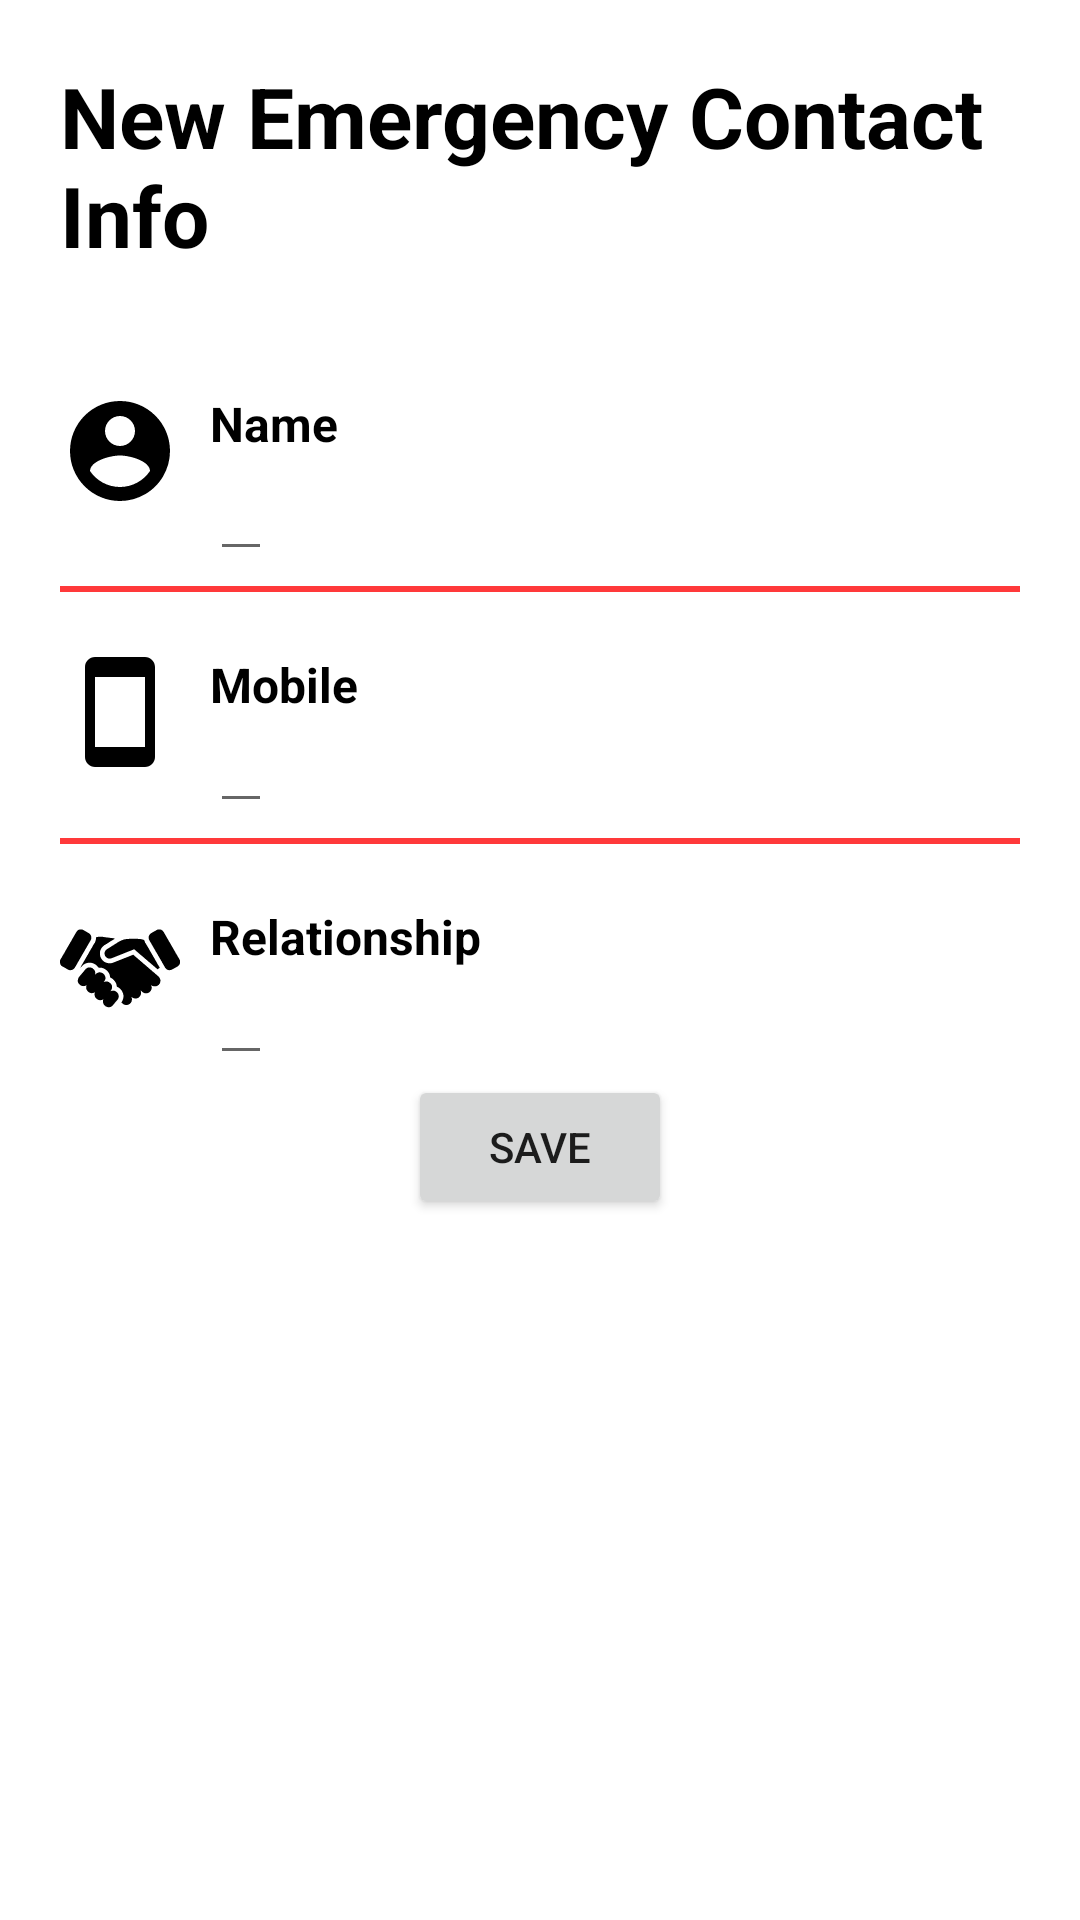

Icons on this 1080px x 1920px Android screen, each with the point to tap as [x,y]:
personal details: [120,451]
